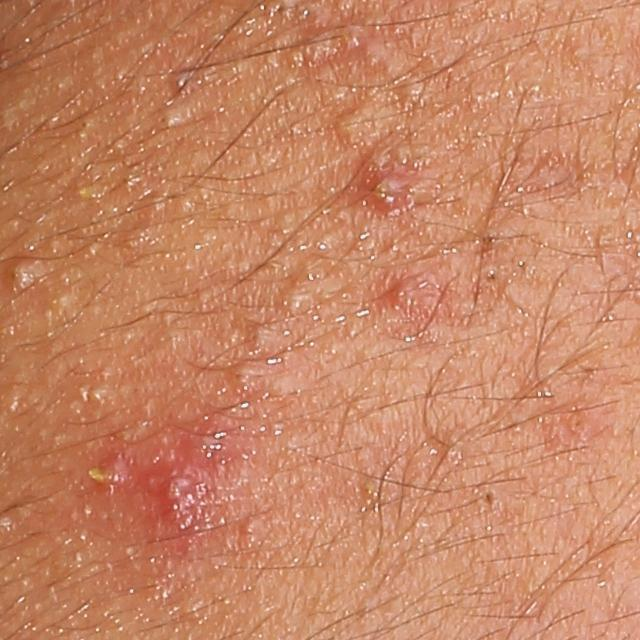comedo: (536, 401, 604, 460), (375, 38, 431, 100), (590, 152, 638, 200), (338, 103, 389, 148), (527, 152, 575, 197), (4, 250, 49, 297), (276, 282, 316, 319), (158, 98, 192, 132), (227, 358, 260, 391), (135, 193, 168, 224), (47, 286, 75, 320), (72, 170, 99, 204), (243, 319, 272, 348), (81, 383, 106, 413), (478, 264, 507, 288), (477, 485, 504, 510), (237, 518, 261, 537), (566, 41, 587, 60)
papule: (383, 272, 436, 314)
pustule: (152, 460, 217, 545), (86, 444, 142, 498), (363, 172, 420, 214)
